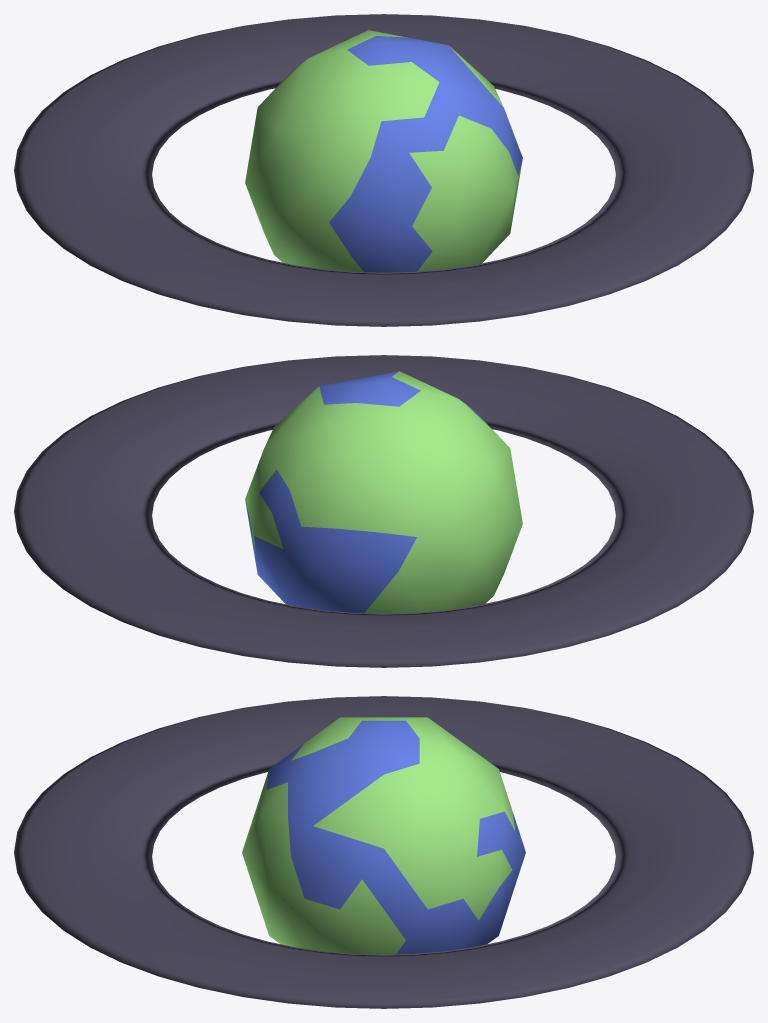
Rendered from Moon1.fbx.
The picture shows the model from 3 angles, top to bottom: view 1: azimuth 30°, elevation 25°; view 2: azimuth 150°, elevation 25°; view 3: azimuth 270°, elevation 25°; orthographic projection.
Parts seen in each view (by area): view 1: Torus, Icosphere; view 2: Torus, Icosphere; view 3: Torus, Icosphere.
Part boxes in pixels (left/top/right/bottom): Torus: left=14, top=14, right=753, bottom=326; Icosphere: left=245, top=30, right=522, bottom=272; Torus: left=14, top=355, right=753, bottom=667; Icosphere: left=245, top=371, right=522, bottom=613; Torus: left=14, top=696, right=753, bottom=1008; Icosphere: left=242, top=717, right=525, bottom=954.
Bounding box in the file's own units: 1563 × 600 × 1563.
